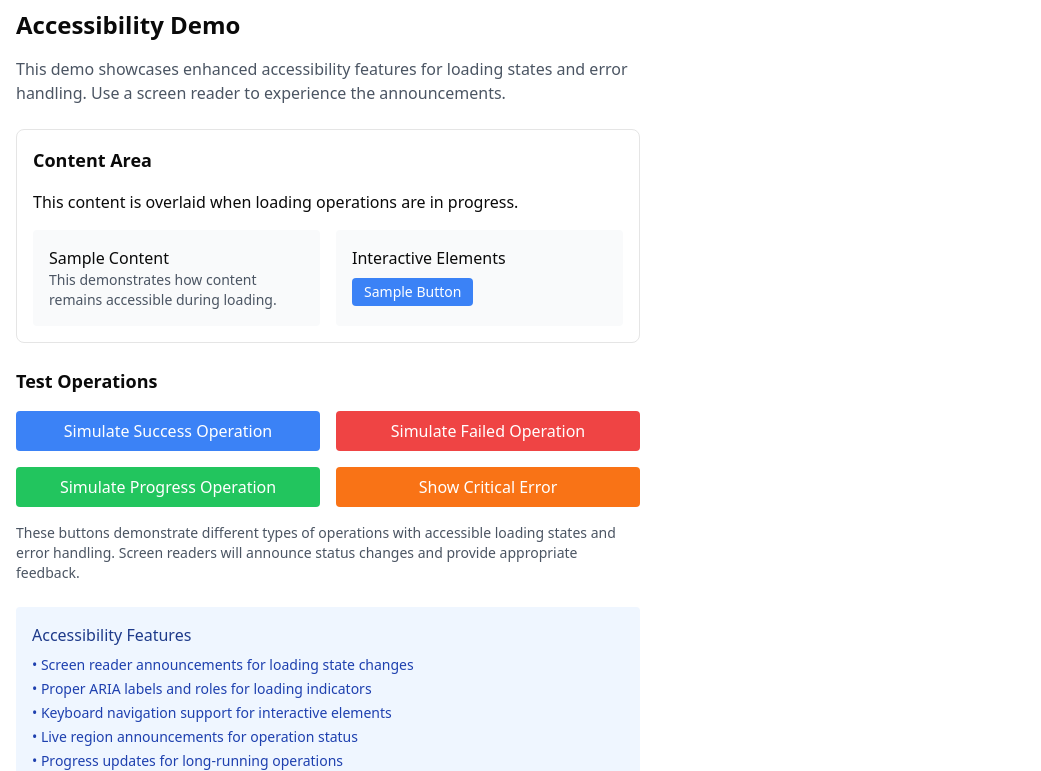
Test: AccessibilityDemo Component › should announce operation completion
The width and height of the screenshot is (1041, 771).
Click the button "Simulate Success Operation" at (168, 431), box [16,411,320,451]
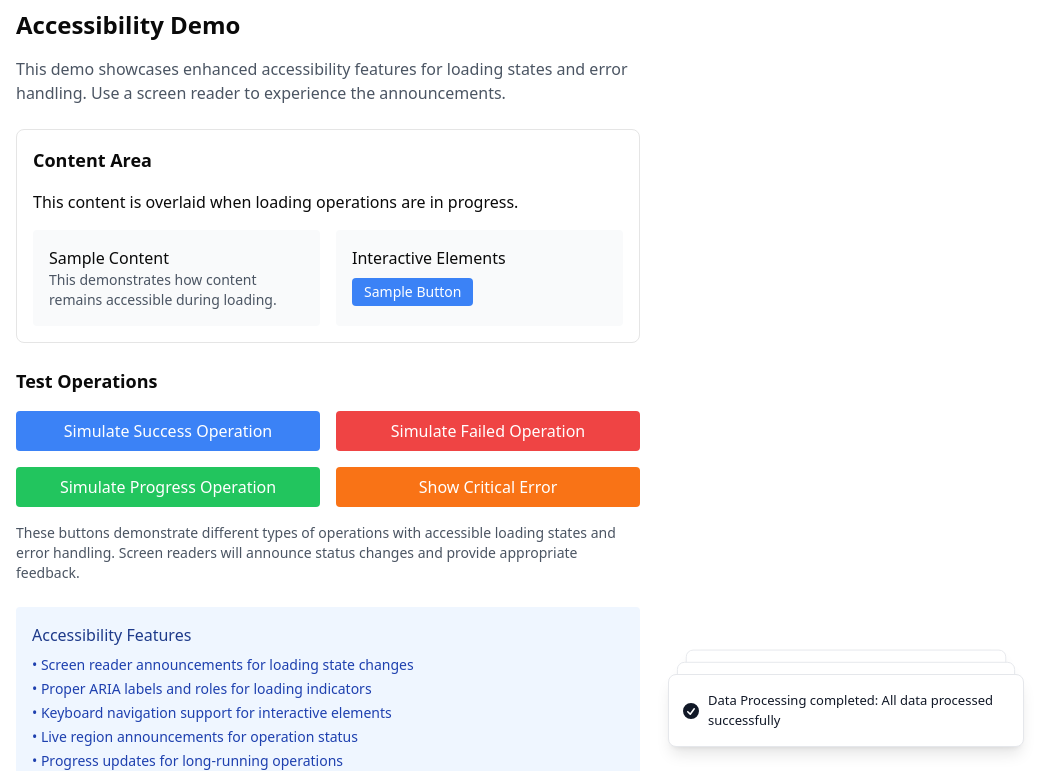
Expected: the text "Data Processing completed: All data processed successfully" is shown, [708,691,1007,730]
